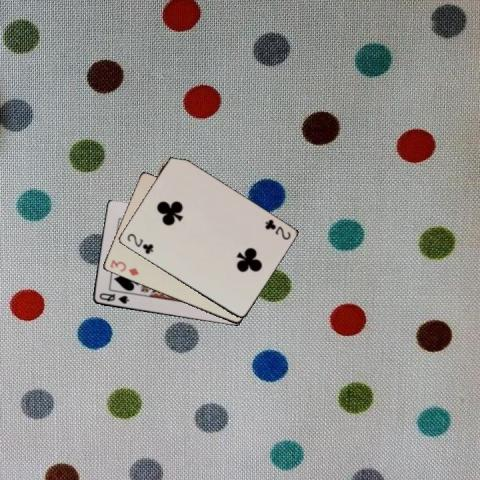2c: (124, 231, 155, 255), (262, 217, 292, 241)
3d: (107, 257, 140, 277)
Qs: (96, 290, 130, 305)
